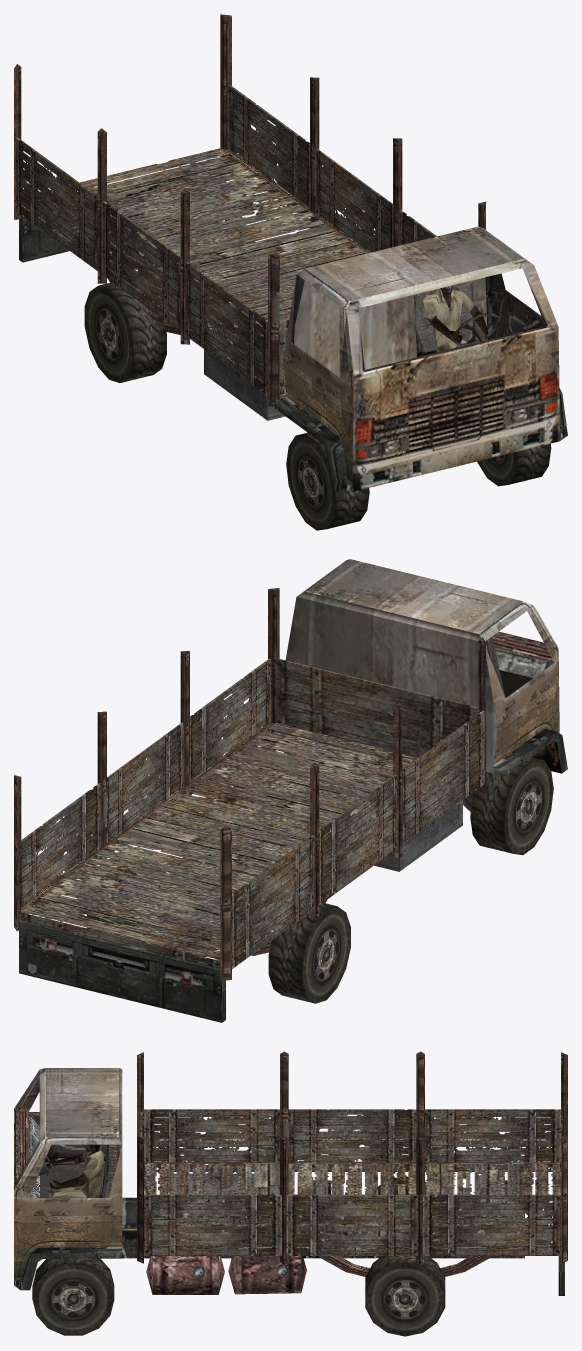
File: etrck2.glb
3 renders of one model, top to bottom at view 1: azimuth 30°, elevation 25°; view 2: azimuth 150°, elevation 25°; view 3: azimuth 270°, elevation 25°, orthographic. The views are drawn at different scales.
Parts seen in each view (by area): view 1: _etrck2; view 2: _etrck2; view 3: _etrck2.
Part boxes in pixels (x1,y1,x2,y2): _etrck2: (14,14,567,530); _etrck2: (14,559,567,1022); _etrck2: (14,1051,567,1336).
Bounding box in the file's own units: 3.1 × 3.09 × 7.83.
Materials: 4 (4 with a texture image).
